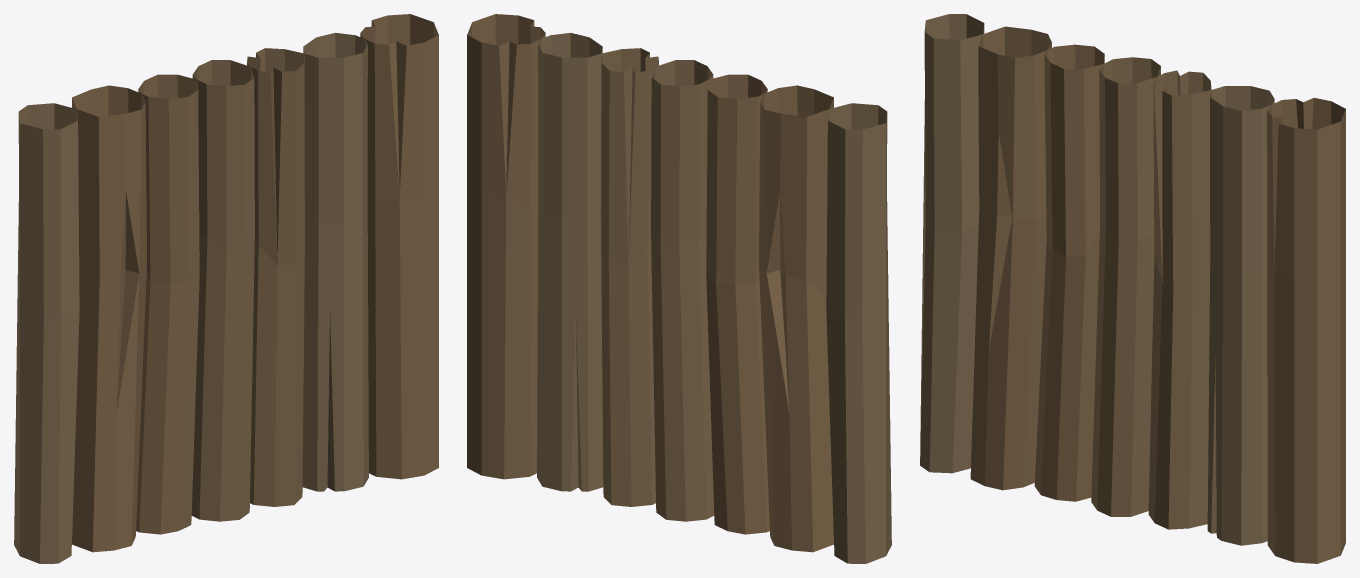
The model's file is rpgpp_ag_wall_02_3x3_a.fbx.
3 views of the same model, side by side, from view 1: azimuth 30°, elevation 25°; view 2: azimuth 150°, elevation 25°; view 3: azimuth 330°, elevation 25° (orthographic).
Parts seen in each view (by area): view 1: rpgpp_ag_wall_02_3x3_a; view 2: rpgpp_ag_wall_02_3x3_a; view 3: rpgpp_ag_wall_02_3x3_a.
Boxes of the visible parts, x1=… form: rpgpp_ag_wall_02_3x3_a: x1=14, y1=14, x2=438, y2=563; rpgpp_ag_wall_02_3x3_a: x1=467, y1=14, x2=891, y2=563; rpgpp_ag_wall_02_3x3_a: x1=920, y1=14, x2=1345, y2=563.
Bounding box in the file's own units: 3 × 3 × 0.4626.
